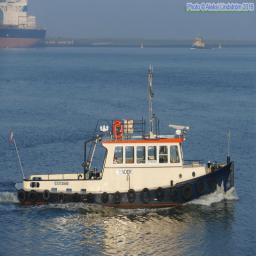tugboat: (10, 63, 237, 211)
